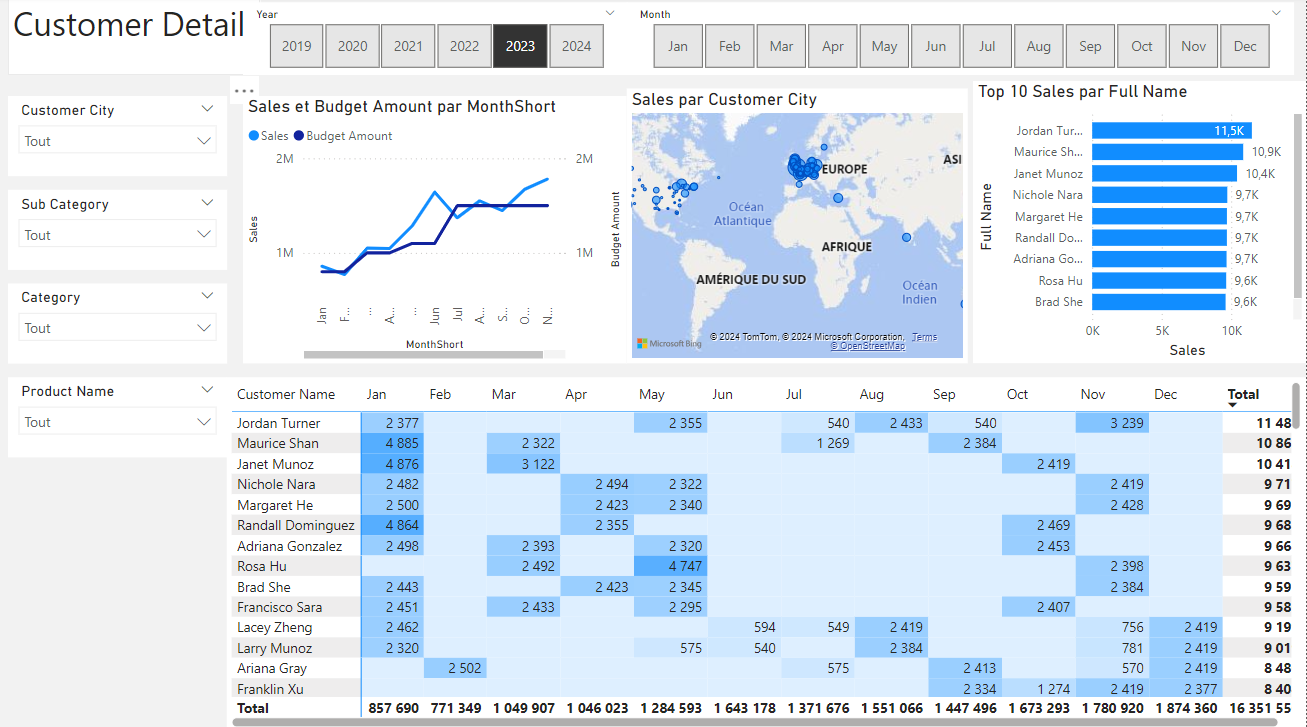

Layout of this report page (visuals, bound fields, positions):
{"tool":"powerbi","page":{"name":"Customer","canvas":[1280,720],"ordinal":1},"visuals":[{"type":"textbox","box":[9.8,0,247,77],"z":0},{"type":"slicer","fields":{"Values":["Dim customer.Customer City"]},"box":[9.6,97.4,214.1,78.2],"z":1000},{"type":"slicer","fields":{"Values":["Dim product.Sub Category"]},"box":[9.6,189.4,214.1,78.2],"z":2000},{"type":"slicer","fields":{"Values":["Dim product.Product Category"]},"box":[9.6,281.3,214.1,78.2],"z":3000},{"type":"slicer","fields":{"Values":["Dim product.Product Name"]},"box":[9.6,373.2,214.1,78.2],"z":4000},{"type":"slicer","fields":{"Values":["Dim calendar.Year"]},"box":[239.7,6.1,376.6,70.9],"z":5000},{"type":"slicer","fields":{"Values":["Dim calendar.MonthShort"]},"box":[615.1,6.1,653,70.9],"z":6000},{"type":"lineChart","fields":{"Y":["Key Measures.Sales"],"Y2":["Key Measures.Budget Amount"],"Category":["Dim calendar.MonthShort"]},"box":[239.7,97.8,375.4,261.7],"z":7000},{"type":"barChart","title":"Top 10 Sales par  Full Name","fields":{"Y":["Key Measures.Sales"],"Category":["Dim customer.Full Name"]},"box":[953.8,83.2,326.5,276.4],"z":8000},{"type":"map","fields":{"Category":["Dim customer.Customer City"],"Size":["Key Measures.Sales"]},"box":[615.1,90.5,333.8,269],"z":9000},{"type":"pivotTable","fields":{"Rows":["Dim customer.Full Name"],"Columns":["Dim calendar.MonthShort"],"Values":["Key Measures.Sales"]},"box":[224.3,372.9,1055.7,347.1],"z":10000}]}

Visuals, with their boxes in screenshot pixels (x1, y1, x2, y2), scaled from the page's 1280x720 canvas onto the 1307x727 screenshot:
textbox: BBox(10, 0, 262, 78)
slicer - Dim customer.Customer City: BBox(10, 98, 228, 177)
slicer - Dim product.Sub Category: BBox(10, 191, 228, 270)
slicer - Dim product.Product Category: BBox(10, 284, 228, 363)
slicer - Dim product.Product Name: BBox(10, 377, 228, 456)
slicer - Dim calendar.Year: BBox(245, 6, 629, 78)
slicer - Dim calendar.MonthShort: BBox(628, 6, 1295, 78)
lineChart - Key Measures.Sales x Key Measures.Budget Amount: BBox(245, 99, 628, 363)
"Top 10 Sales par  Full Name" barChart: BBox(974, 84, 1306, 363)
map - Dim customer.Customer City x Key Measures.Sales: BBox(628, 91, 969, 363)
pivotTable - Dim customer.Full Name x Dim calendar.MonthShort: BBox(229, 377, 1306, 726)
